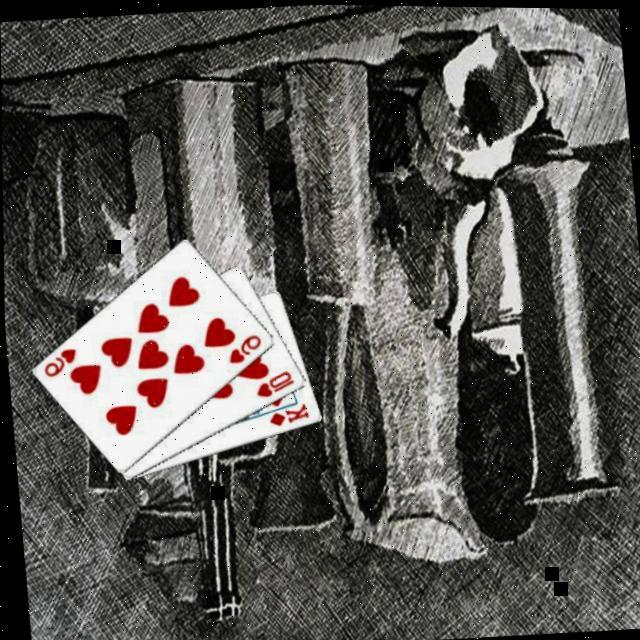10H: (249, 368, 295, 402)
9H: (222, 332, 262, 368), (38, 346, 78, 381)
KD: (264, 401, 310, 431)
